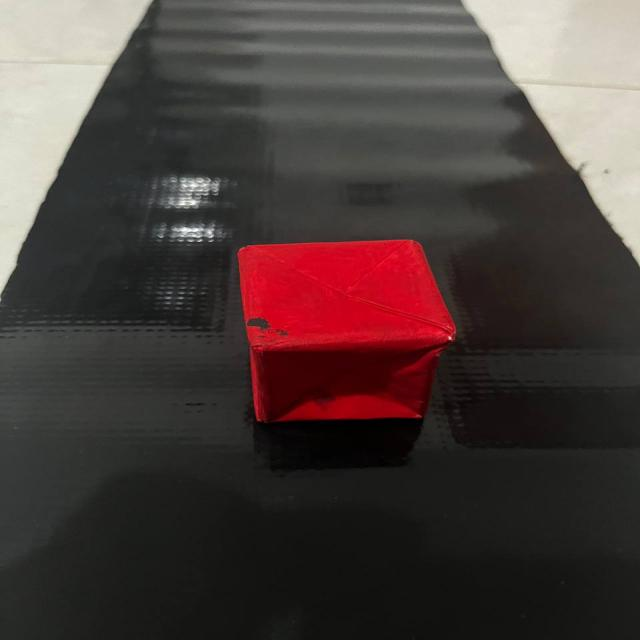Rojo: (217, 224, 470, 440)
